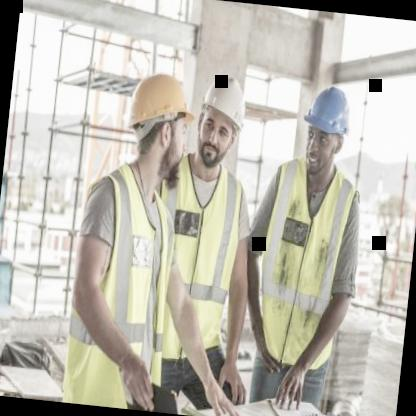helmet: (118, 59, 198, 179), (182, 63, 249, 179), (296, 78, 358, 180)
